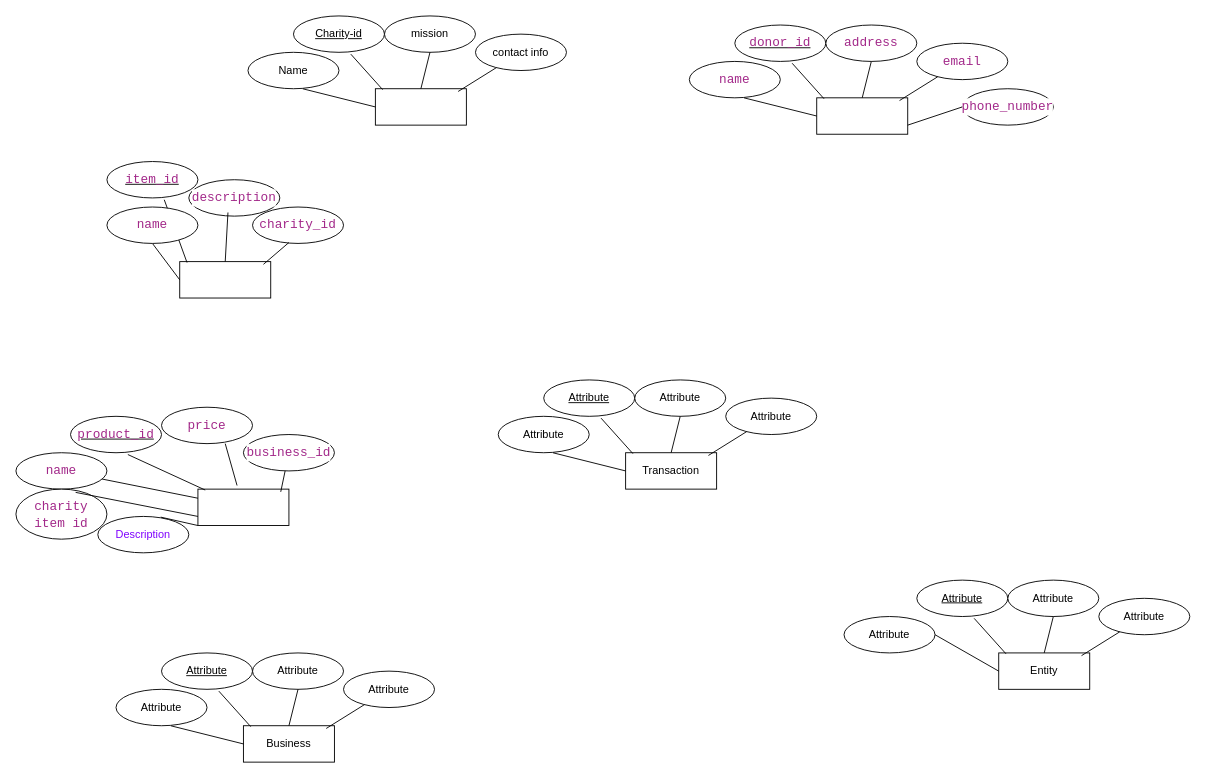
The diagram is 1206 pixels wide and 778 high, and some of its shapes have lost their labels. Here are the shapes that lost their labels. From the top down, the box of each, then its label:
(374, 88, 466, 125): Charity
(816, 97, 908, 134): Donor
(179, 261, 271, 298): Charity-Item
(197, 488, 289, 526): Product
